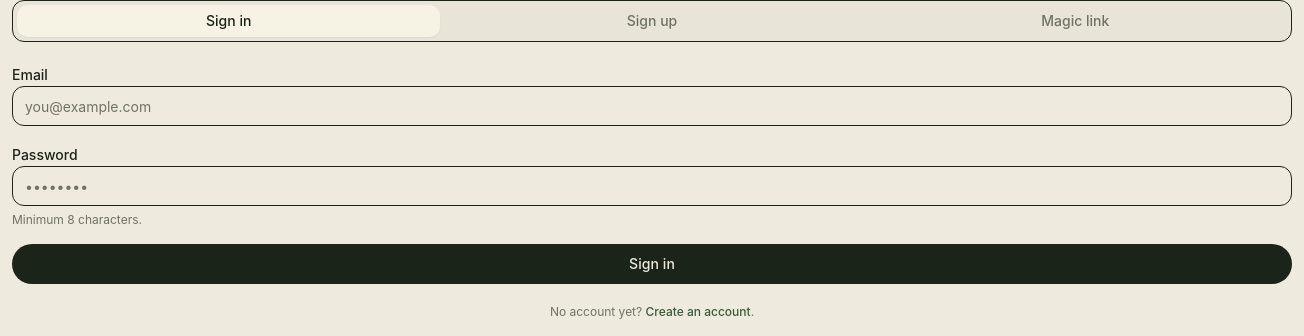
SignInForm › clicking 'Sign up' tab activates the sign-up panel
Step 1. Click the tab "Sign up" → (652, 21), box top-left (440, 5), bottom-right (864, 37)
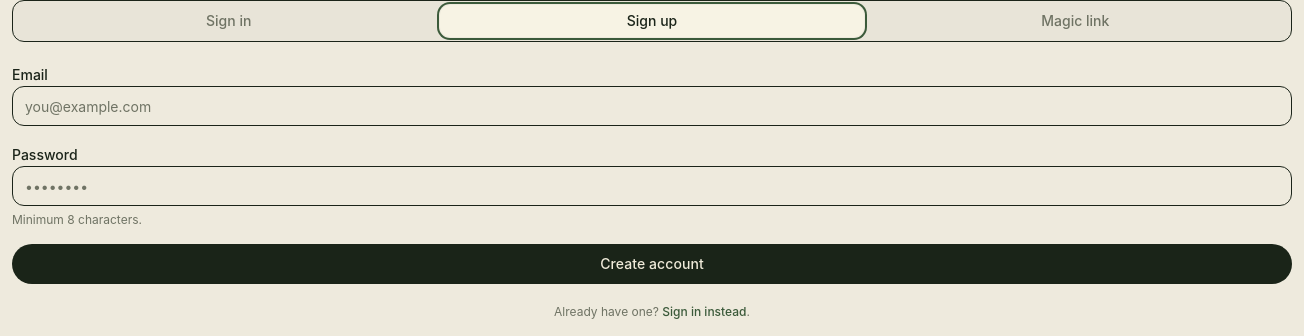
Check: the button "Create account" is shown, box top-left (12, 244), bottom-right (1292, 284)
